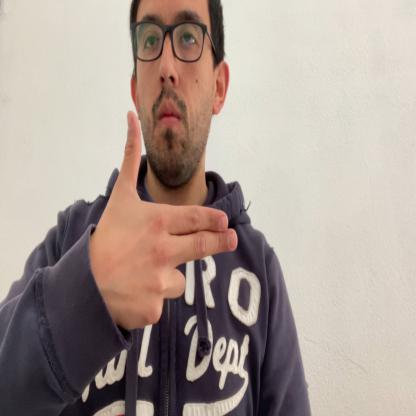H: (97, 108, 238, 331)
